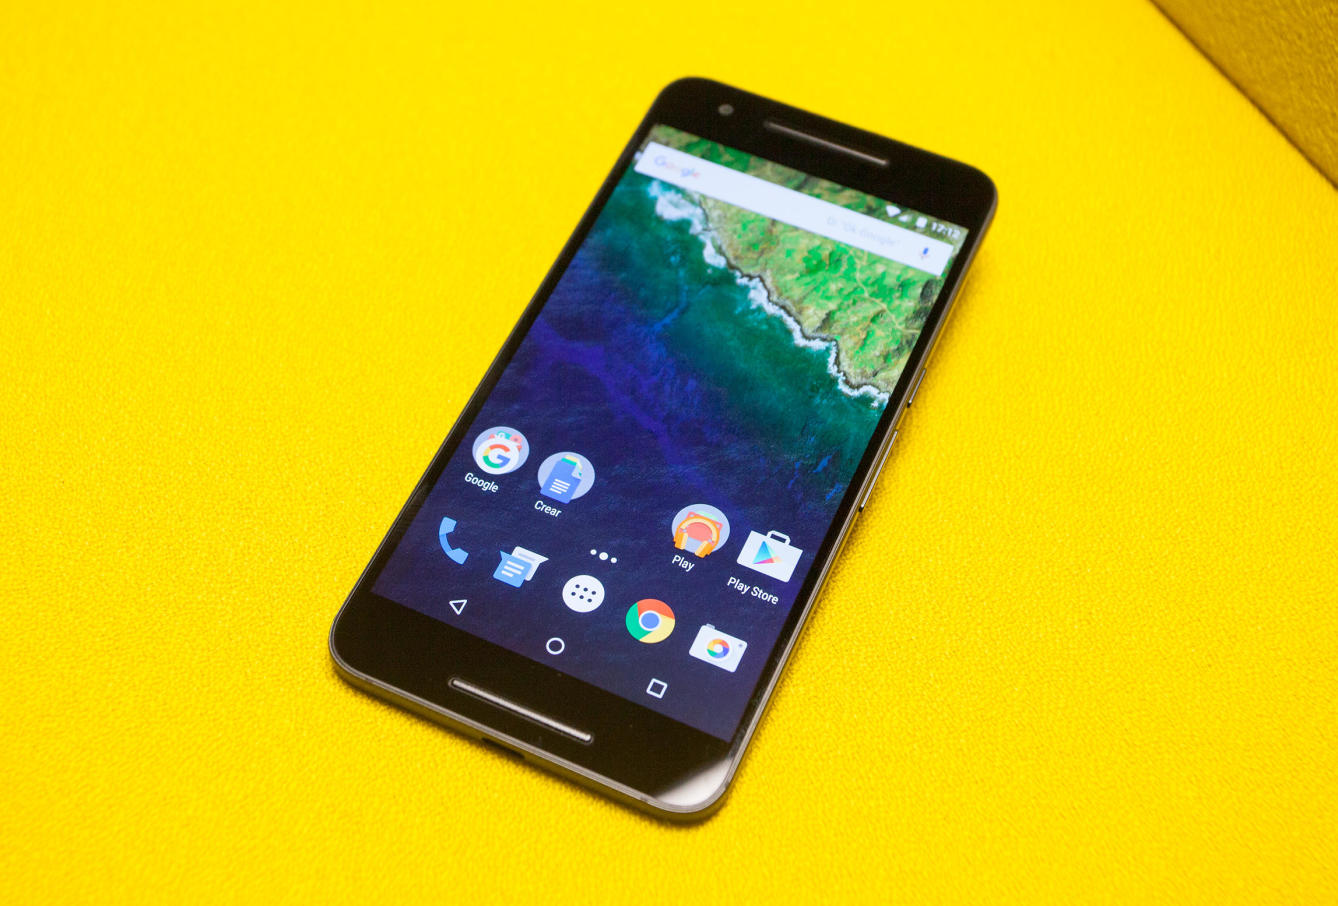smartphone: (328, 76, 997, 826)
